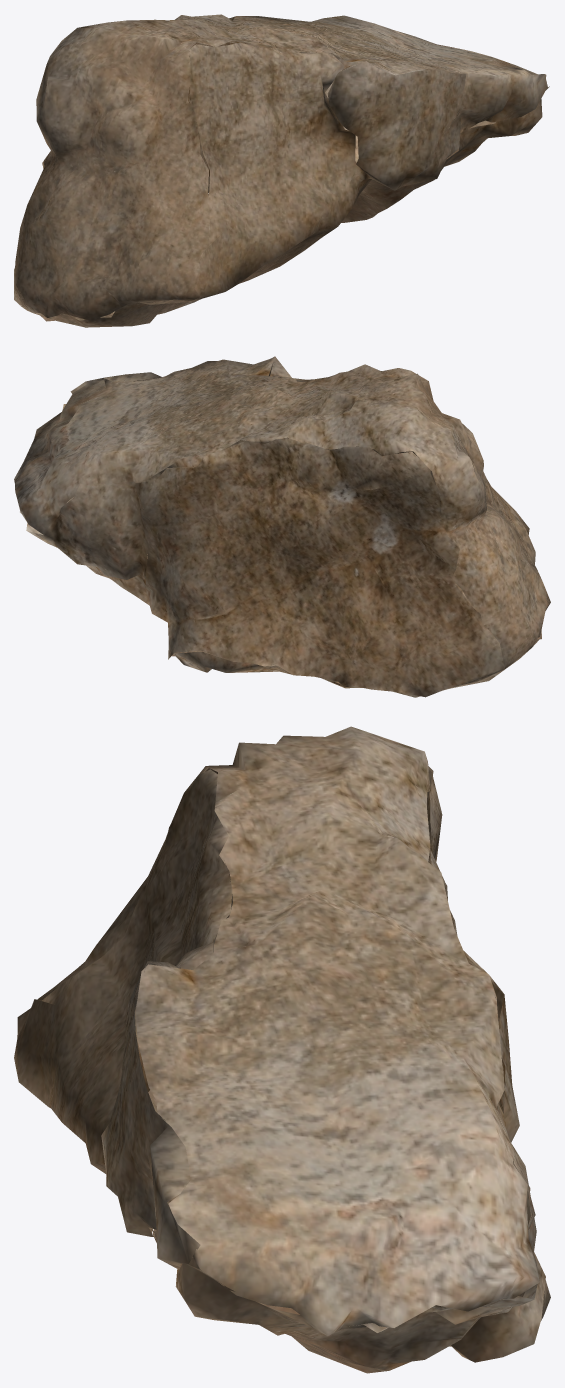
File: namaqualand_stones_01_1.gltf
3 views of the same model, one above another, from view 1: azimuth 30°, elevation 25°; view 2: azimuth 150°, elevation 25°; view 3: azimuth 270°, elevation 25° (orthographic). The views are drawn at different scales.
Parts seen in each view (by area): view 1: namaqualand_stones_01_b; view 2: namaqualand_stones_01_b; view 3: namaqualand_stones_01_b.
Boxes of the visible parts, x1,y1,x2,y2 form: namaqualand_stones_01_b: (14,14,549,327); namaqualand_stones_01_b: (14,356,550,697); namaqualand_stones_01_b: (14,726,550,1373).
Size of the model in its own units: 0.1502 by 0.0843 by 0.0807.
Materials: 1 (1 with a texture image).
